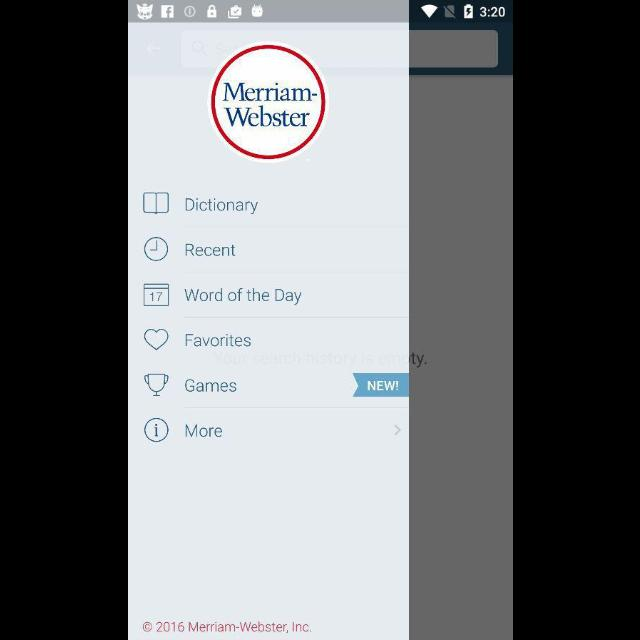icon: (142, 236, 168, 262), (140, 191, 168, 215), (142, 283, 170, 307), (142, 328, 170, 350), (144, 418, 168, 442), (392, 423, 400, 437)
image: (206, 42, 330, 164), (142, 373, 170, 397)
panel: (128, 22, 408, 640)
text: (184, 287, 302, 305), (140, 621, 310, 633), (184, 197, 258, 216), (182, 332, 252, 348), (184, 378, 236, 392), (184, 243, 236, 257), (184, 424, 222, 438)
textbutton: (352, 374, 408, 396)
uppertaskbar: (128, 1, 512, 23)
